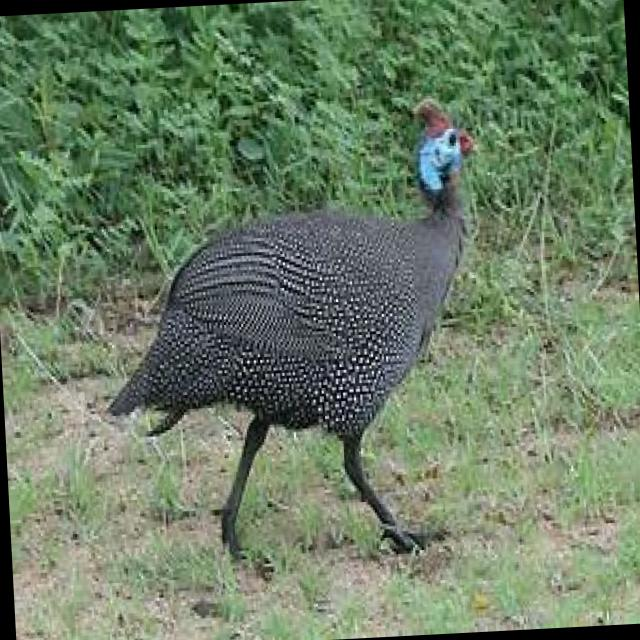animal: (74, 71, 518, 606)
